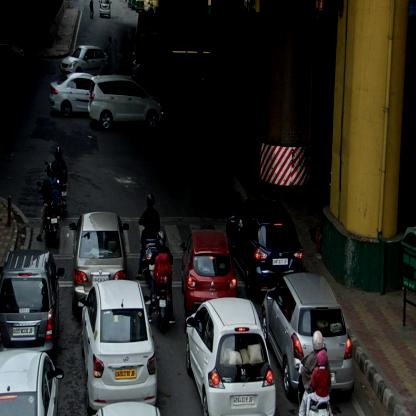bus: (133, 11, 211, 62)
car: (259, 272, 355, 400), (78, 278, 158, 410), (186, 298, 274, 415), (226, 198, 303, 296), (1, 250, 65, 352), (69, 212, 129, 312), (179, 230, 237, 313), (87, 76, 166, 130), (0, 348, 62, 415), (50, 72, 94, 115), (59, 44, 108, 76), (132, 49, 180, 81), (99, 0, 111, 21)
motorcycle: (297, 330, 332, 415), (148, 232, 176, 334), (138, 193, 161, 282), (37, 162, 59, 246), (52, 147, 67, 217)
